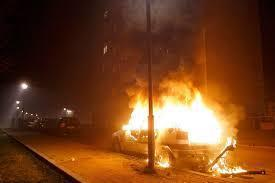fire: (101, 69, 254, 175)
